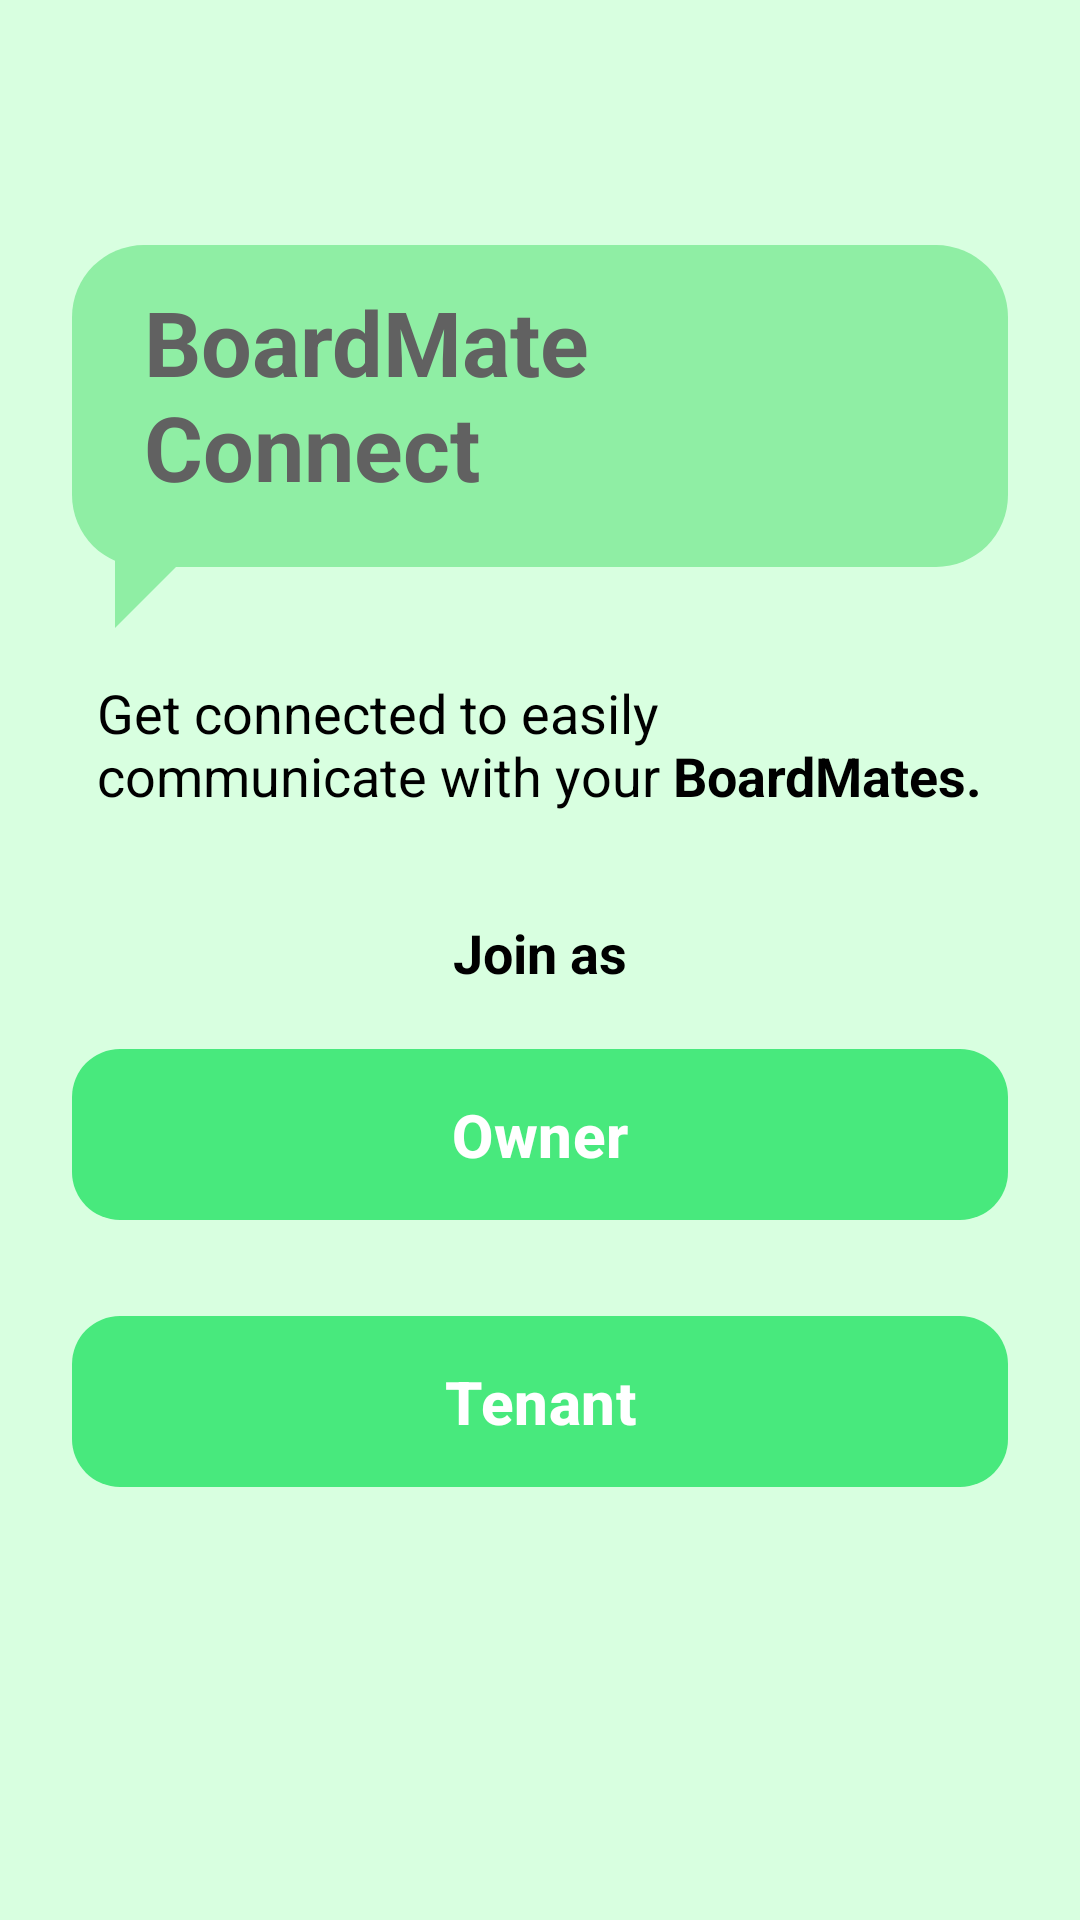

Named icons in this screenshot (1080x1920) and their bounding boxes, (x1, y1, x2, y2):
bubble tail: (115, 556, 187, 628)
